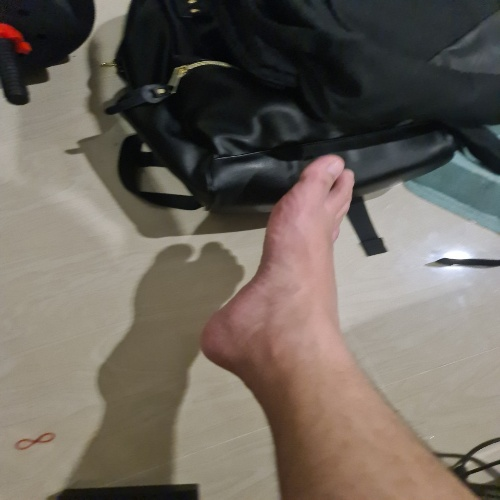3: (300, 156, 344, 203)
4: (201, 311, 246, 366)
Top_Foot: (199, 154, 354, 368)
